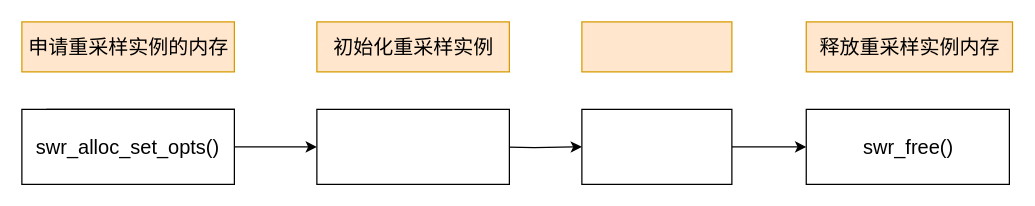
The diagram is 1035 pixels wide and 206 high, and some of its shapes have lost their labels. Here are the shapes that lost their labels. From the top down, the centre of each, then its label:
the point at 656,46: 开始转换
the point at 412,146: swr_init()
the point at 656,146: swr_convert()
